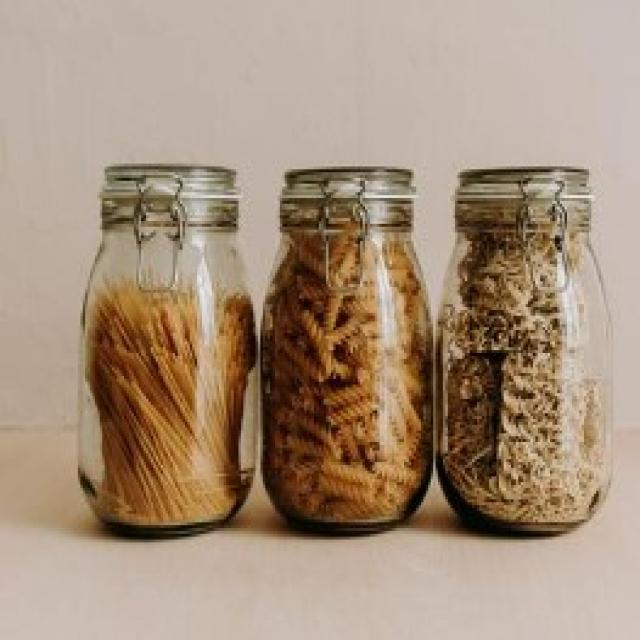electronic: (76, 161, 620, 537)
